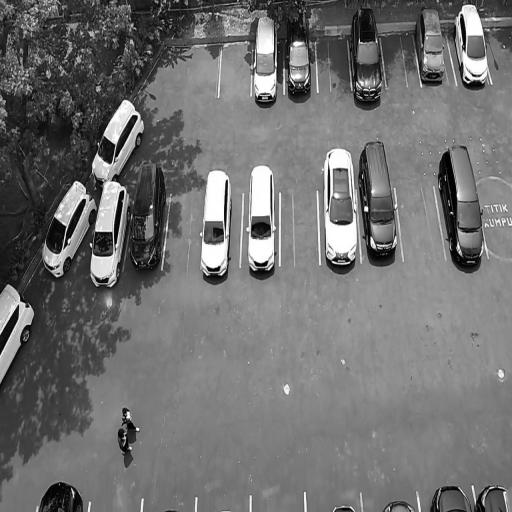Car: (433, 133, 489, 282), (33, 170, 100, 286), (86, 85, 152, 191), (81, 169, 134, 295), (358, 131, 402, 277), (319, 139, 362, 284), (0, 270, 43, 391), (243, 157, 282, 288), (346, 0, 389, 113), (198, 162, 233, 294), (130, 154, 166, 278), (248, 10, 282, 120), (410, 1, 452, 85), (281, 12, 312, 108), (36, 477, 85, 512), (429, 479, 471, 512), (474, 477, 512, 512), (379, 494, 417, 512), (328, 501, 356, 512)
Space Available: (395, 185, 444, 262), (162, 186, 204, 269), (281, 188, 319, 268), (476, 183, 512, 260), (380, 26, 421, 88), (315, 33, 352, 93), (219, 38, 253, 98), (482, 17, 512, 82)
